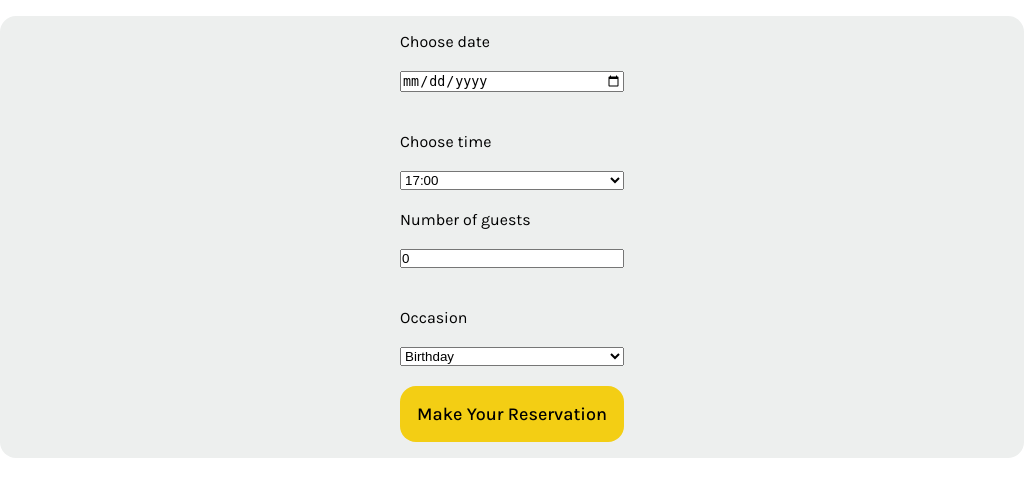
Test: Validates BookingForm incorrect date picking
The width and height of the screenshot is (1024, 480).
In the date field labelled "Choose date": (512, 82) [400, 71, 624, 92], type "2021-01-01"
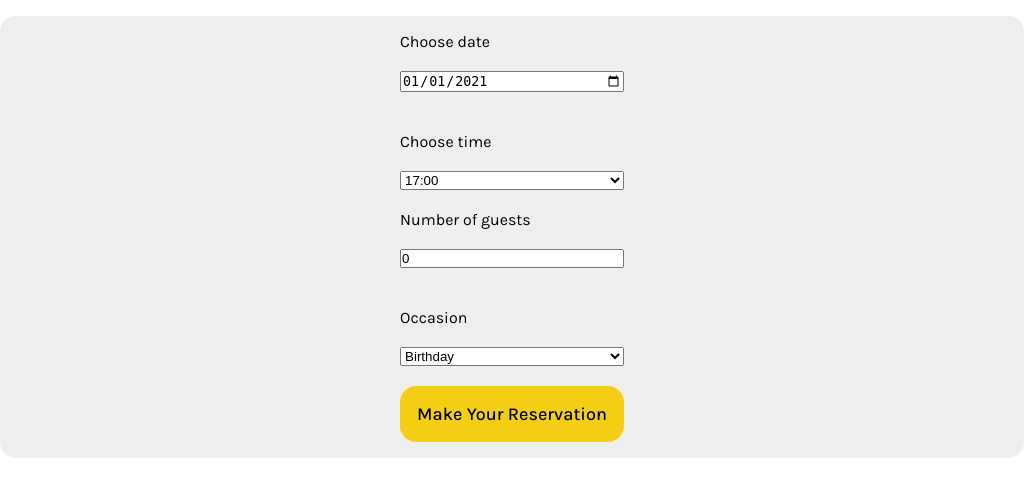
Leave the date field labelled "Choose date", box [400, 71, 624, 92]
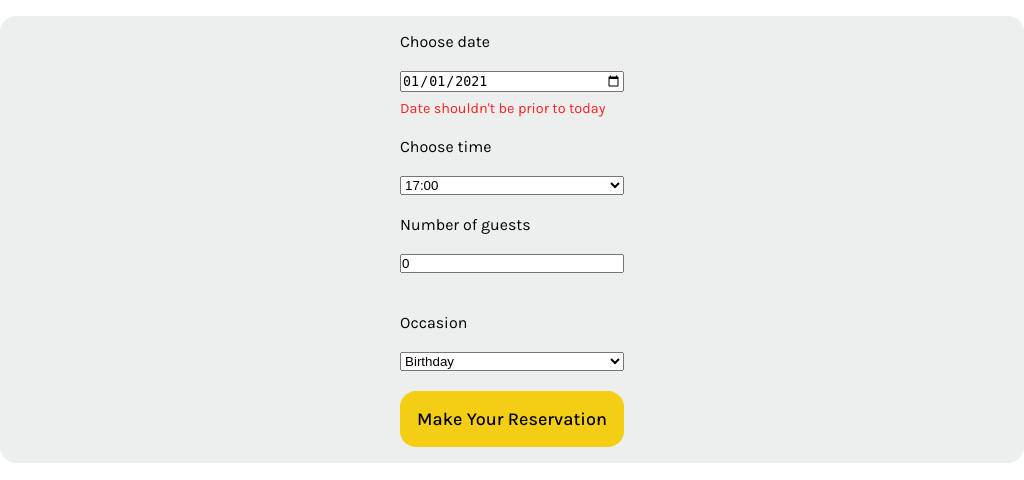
Expected: the text "Date shouldn't be prior to today" is shown, [400, 100, 624, 116]
